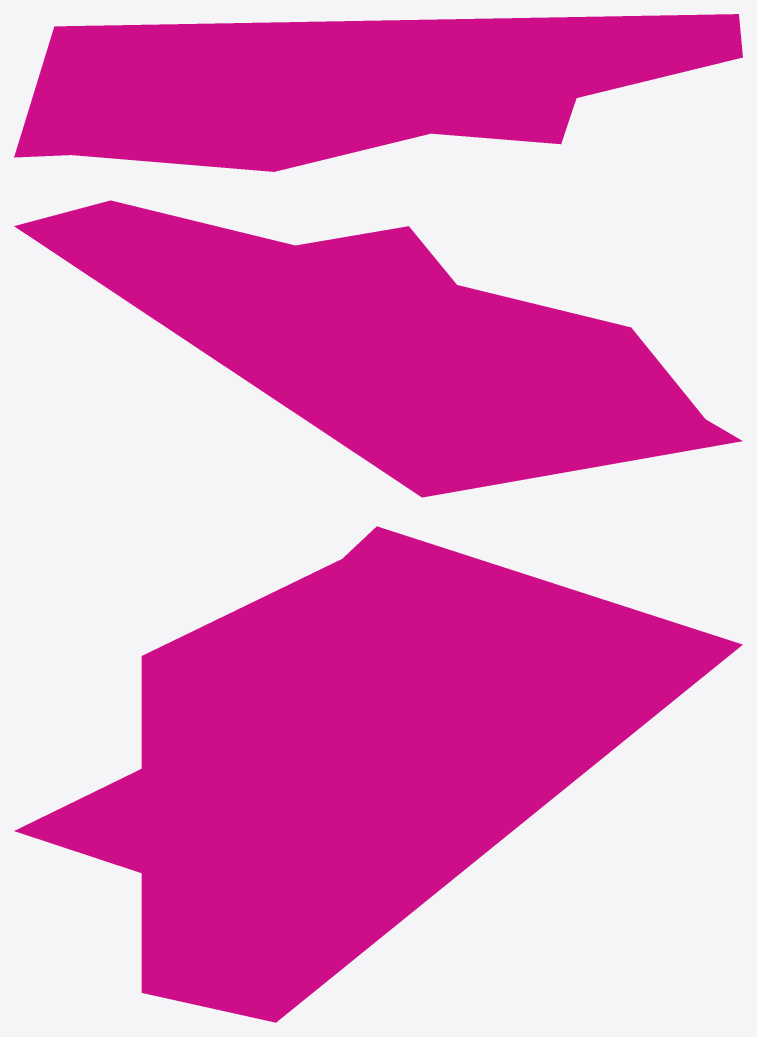
Rendered from Parchment_P_08.fbx.
The picture shows the model from 3 angles, top to bottom: view 1: azimuth 30°, elevation 25°; view 2: azimuth 150°, elevation 25°; view 3: azimuth 270°, elevation 25°; orthographic projection. The views are drawn at different scales.
Parts seen in each view (by area): view 1: Parchment_P_08; view 2: Parchment_P_08; view 3: Parchment_P_08.
Boxes of the visible parts, x1,y1,x2,y2 form: Parchment_P_08: (14, 14, 742, 171); Parchment_P_08: (14, 200, 742, 497); Parchment_P_08: (14, 526, 742, 1022).
Size of the model in its own units: 18.12 by 2.5e-15 by 11.24.
